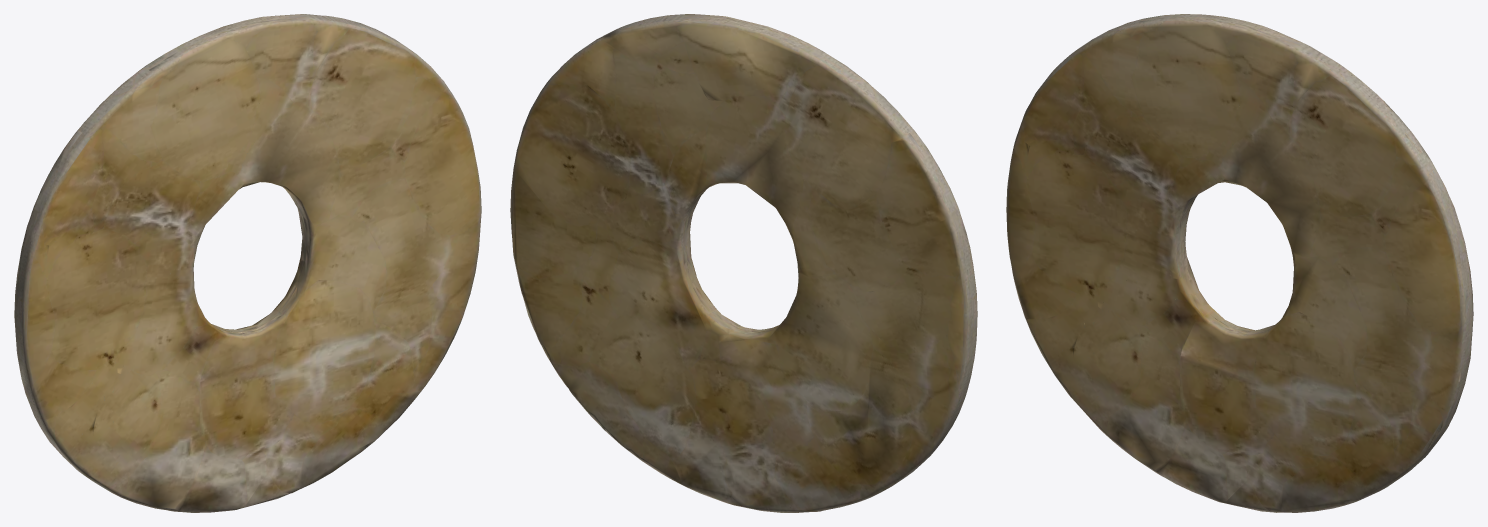
The model's file is jade-bi-overview.glb.
The picture shows the model from 3 angles, left to right: view 1: azimuth 30°, elevation 25°; view 2: azimuth 150°, elevation 25°; view 3: azimuth 330°, elevation 25°; orthographic projection.
Visible parts, largest first — view 1: node_0; view 2: node_0; view 3: node_0.
Boxes of the visible parts, left/top/right/bottom form: node_0: left=14, top=14, right=481, bottom=512; node_0: left=510, top=14, right=977, bottom=512; node_0: left=1006, top=14, right=1473, bottom=512.
Bounding box in the file's own units: 1.18 × 1.18 × 0.0522.
Materials: 1 (1 with a texture image).
